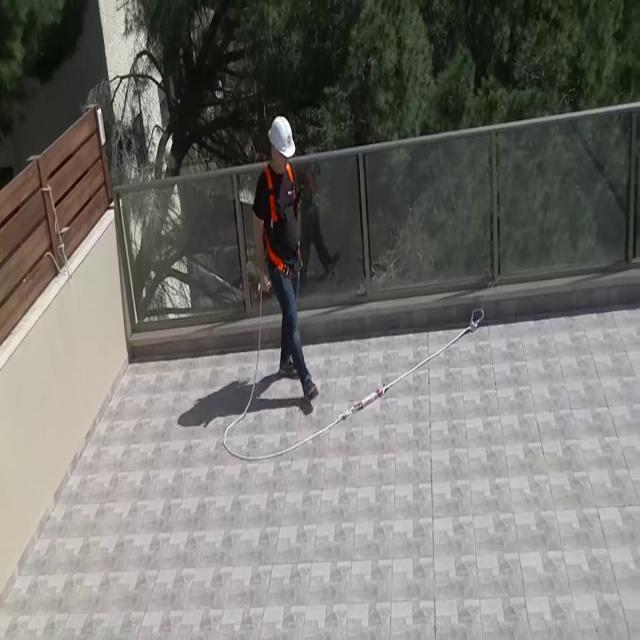Harness: (223, 309, 485, 462)
